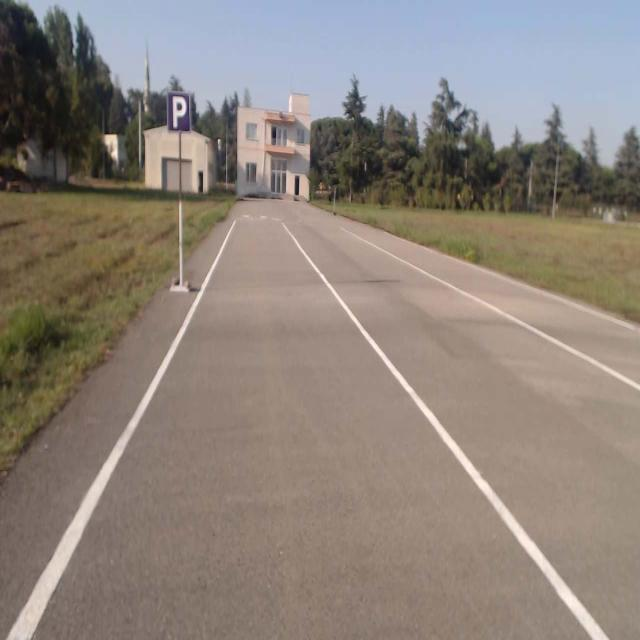park: (167, 90, 190, 132)
